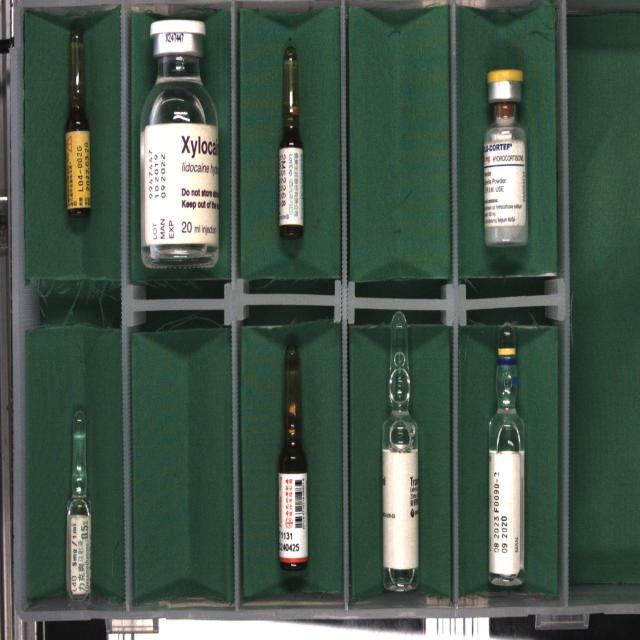Vials: (140, 20, 219, 268), (484, 69, 528, 246)
